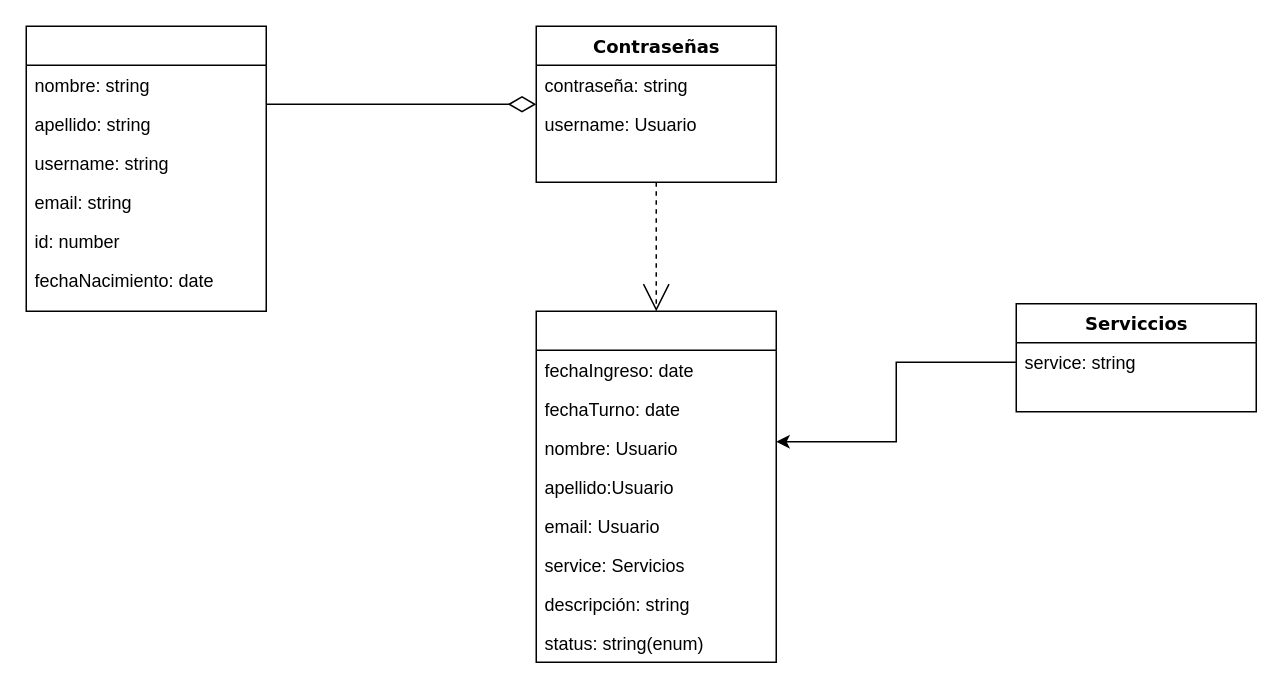
Image size: 1283x693. Some labels were removed from this diagram. The shapes that lost their labels are listed below. From the top down, each one's box as (x1, y1, x2, y2) in pixels, then its label:
(25, 25, 266, 311): Usuario
(535, 310, 776, 662): Turnos
